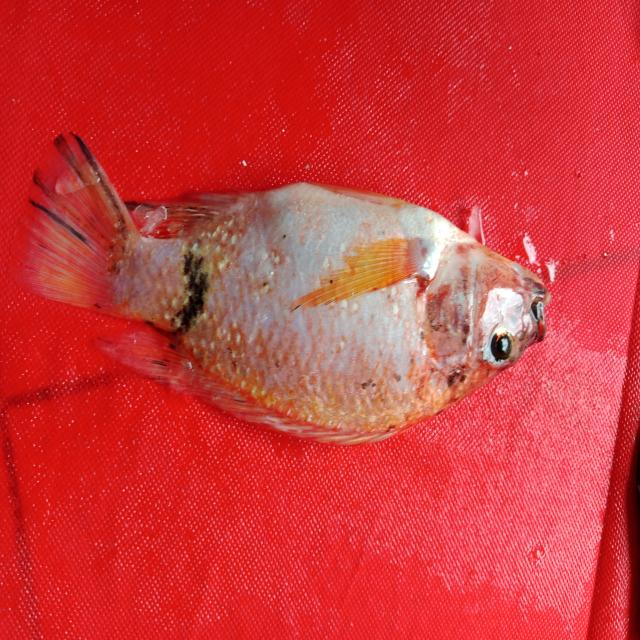ikan: (17, 93, 568, 463)
